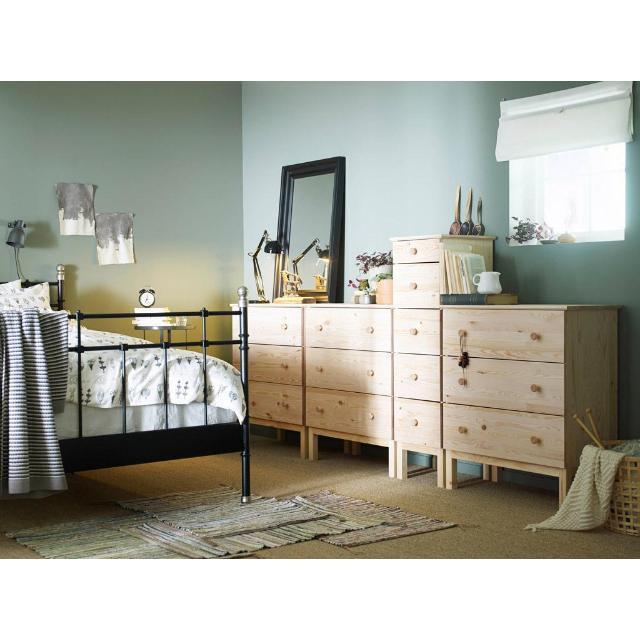bed: (0, 265, 249, 502)
clock: (139, 286, 155, 307)
curtain: (495, 81, 632, 161)
dresser: (250, 235, 618, 502)
lamp: (248, 231, 284, 303), (6, 220, 26, 248)
rug: (10, 486, 455, 558)
wall-art: (95, 214, 135, 264), (57, 184, 94, 235)
